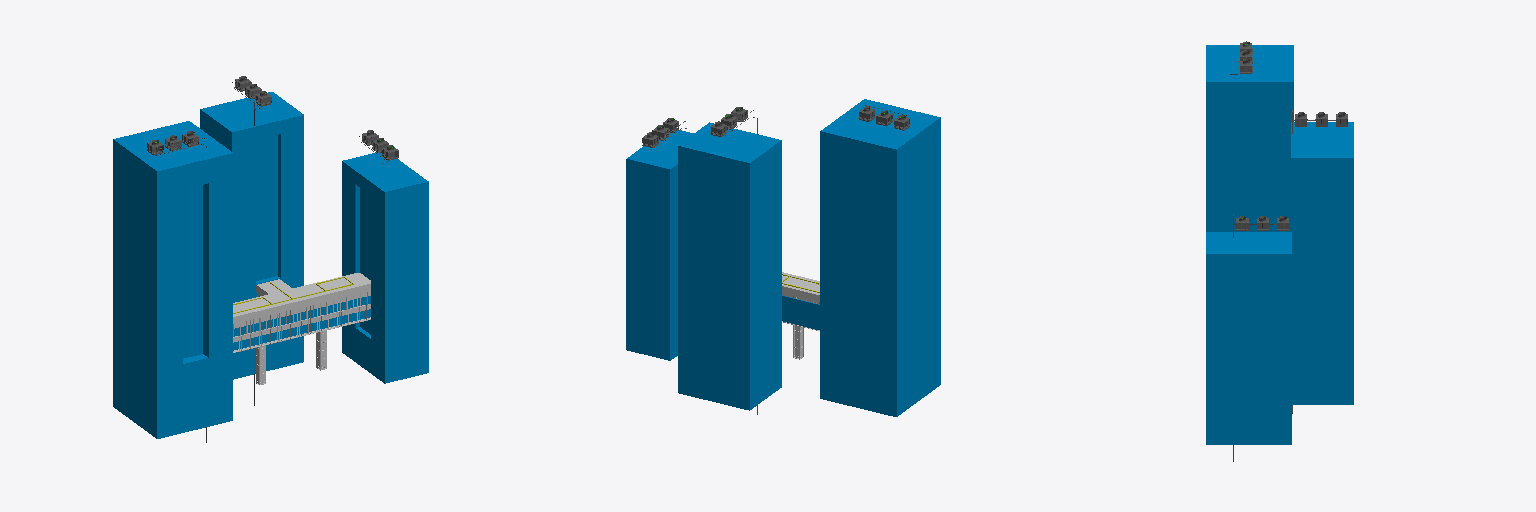
The picture shows the model from 3 angles: view 1: azimuth 30°, elevation 25°; view 2: azimuth 150°, elevation 25°; view 3: azimuth 270°, elevation 25°; orthographic projection.
Parts seen in each view (by area): view 1: LEF_BL_Untitled.001, RIG_BL_Untitled.004, MID_BL_Untitled.003, LQ_Untitled.016, LQ_BL_Untitled.010, LEF_LQT_ZT_Untitled.014, MID_LQT_ZT_Untitled.011, RIG_LQT_ZT_Untitled.018; view 2: LEF_BL_Untitled.001, MID_BL_Untitled.003, RIG_BL_Untitled.004, LQ_Untitled.016, LQ_BL_Untitled.010, LEF_LQT_ZT_Untitled.014, MID_LQT_ZT_Untitled.011, RIG_LQT_ZT_Untitled.018; view 3: RIG_BL_Untitled.004, MID_BL_Untitled.003, LEF_BL_Untitled.001, RIG_LQT_ZT_Untitled.018, MID_LQT_ZT_Untitled.011.
Boxes of the visible parts, x1,y1,x2,y2 form: LEF_BL_Untitled.001: [113, 121, 232, 438]; RIG_BL_Untitled.004: [342, 152, 428, 383]; MID_BL_Untitled.003: [200, 92, 303, 379]; LQ_Untitled.016: [233, 273, 370, 384]; LQ_BL_Untitled.010: [233, 296, 370, 350]; LEF_LQT_ZT_Untitled.014: [147, 131, 206, 442]; MID_LQT_ZT_Untitled.011: [232, 76, 271, 405]; RIG_LQT_ZT_Untitled.018: [359, 130, 398, 163]; LEF_BL_Untitled.001: [820, 99, 940, 416]; MID_BL_Untitled.003: [678, 122, 781, 410]; RIG_BL_Untitled.004: [626, 130, 693, 360]; LQ_Untitled.016: [782, 272, 819, 359]; LQ_BL_Untitled.010: [782, 295, 819, 329]; LEF_LQT_ZT_Untitled.014: [858, 104, 910, 130]; MID_LQT_ZT_Untitled.011: [710, 107, 757, 414]; RIG_LQT_ZT_Untitled.018: [642, 118, 686, 147]; RIG_BL_Untitled.004: [1206, 232, 1291, 444]; MID_BL_Untitled.003: [1291, 122, 1353, 404]; LEF_BL_Untitled.001: [1206, 45, 1293, 231]; RIG_LQT_ZT_Untitled.018: [1233, 214, 1288, 461]; MID_LQT_ZT_Untitled.011: [1292, 110, 1347, 413].
Size of the model in its own units: 0.5714 by 0.6269 by 0.2698.